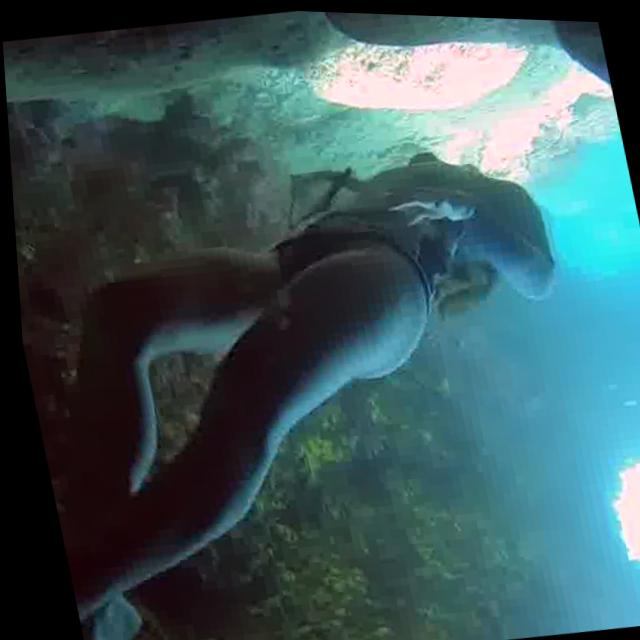human: (6, 105, 634, 640)
